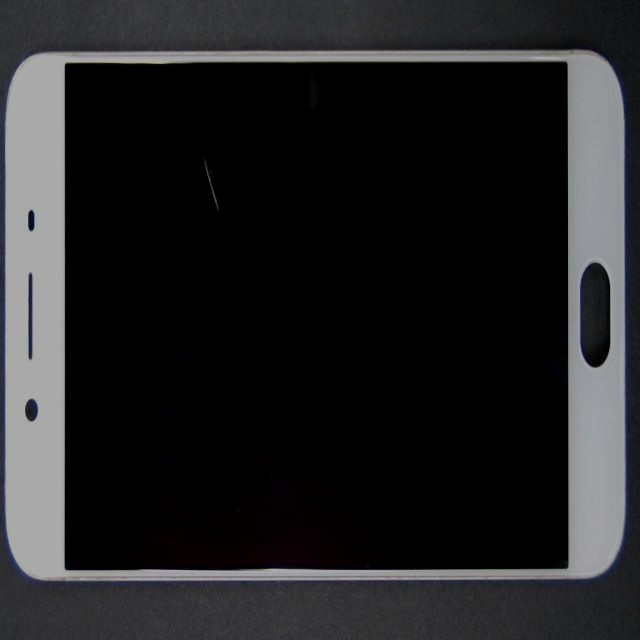scratch: (80, 68, 298, 299)
